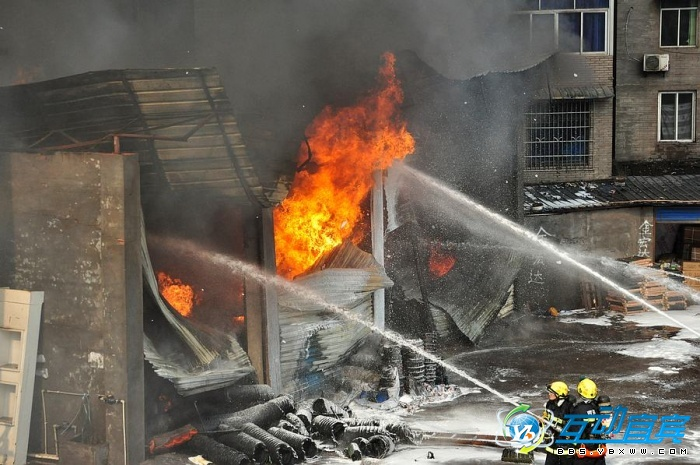fire: (274, 48, 420, 273), (152, 266, 203, 328)
